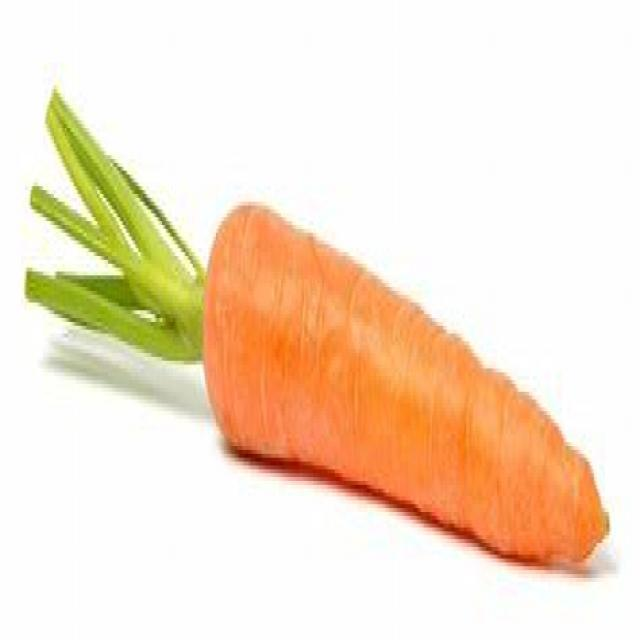Carrot: (25, 87, 615, 594)
